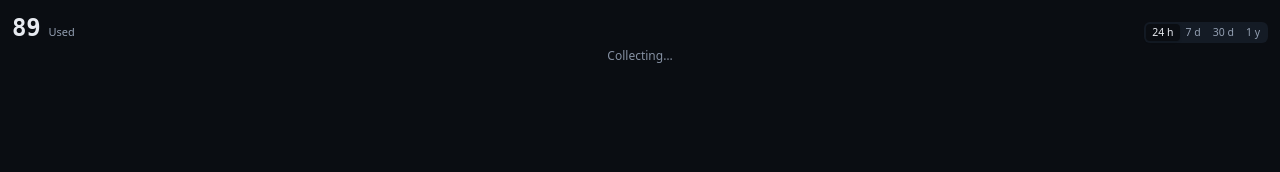
on the card › switches a chart card to a month and back, kept for this browser only
Click the button "30 d" at (1223, 33), box left=1207, top=24, right=1240, bottom=41
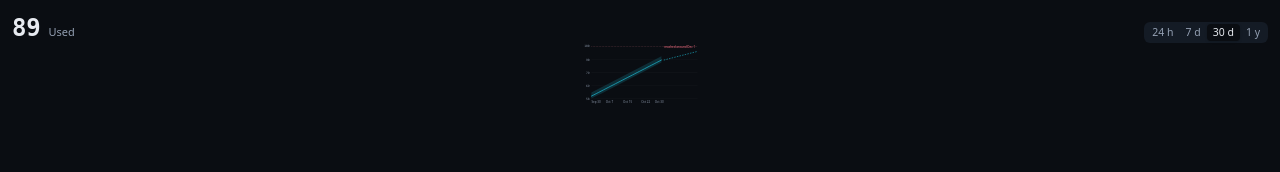
Expected: the element with test id "long-chart-band" is shown, left=591, top=56, right=661, bottom=99
Expected: the element with test id "long-chart" is shown, left=12, top=44, right=1268, bottom=104
Click the button "24 h" at (1163, 33), box left=1146, top=24, right=1180, bottom=41
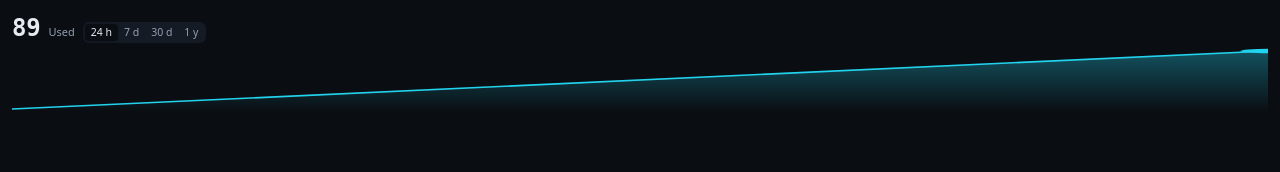
Expected: the element with test id "long-chart" is gone
